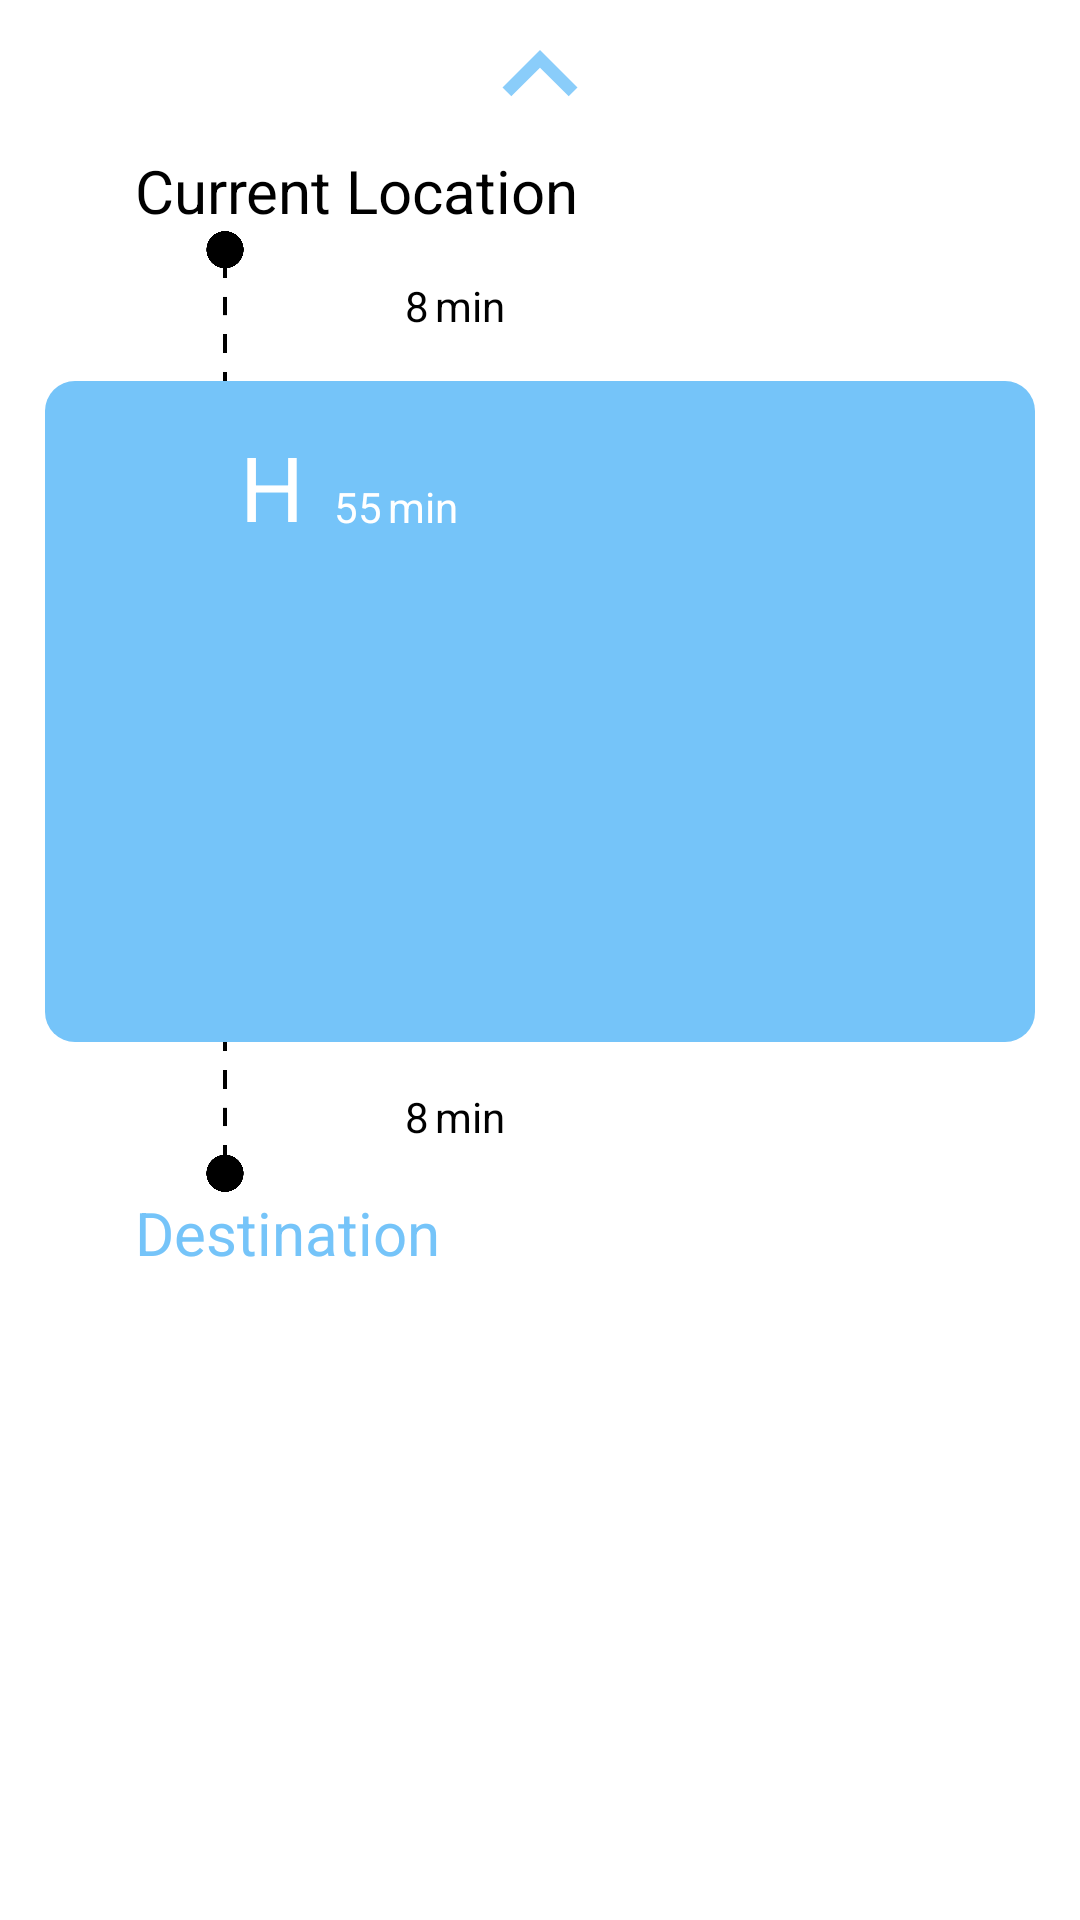

Named icons in this screenshot (1080px x 1920px) and their bounding boxes, rect(x1, y1, x2, y2):
holder up recycler: rect(502, 50, 578, 96)
